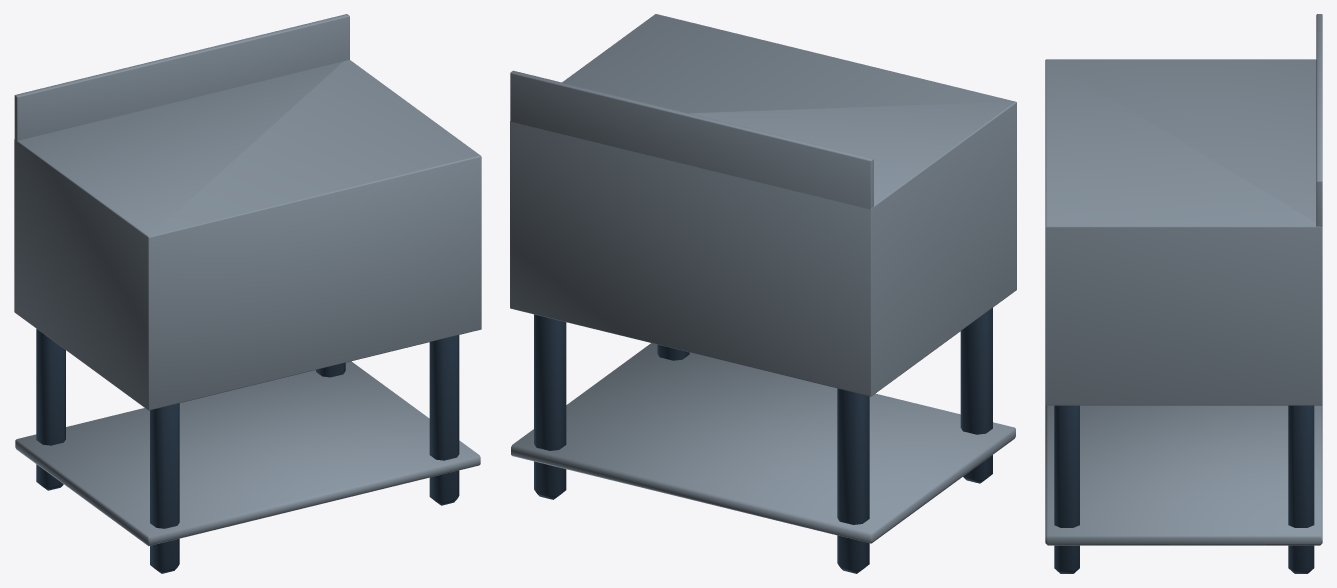
File: Counter-2.fbx
3 renders of one model, left to right at view 1: azimuth 30°, elevation 25°; view 2: azimuth 150°, elevation 25°; view 3: azimuth 270°, elevation 25°, orthographic. The views are drawn at different scales.
Visible parts, largest first — view 1: Counter-2; view 2: Counter-2; view 3: Counter-2.
Part boxes in pixels (left/top/right/bottom): Counter-2: left=14, top=14, right=481, bottom=573; Counter-2: left=510, top=14, right=1016, bottom=573; Counter-2: left=1045, top=14, right=1322, bottom=573.
Bounding box in the file's own units: 1 × 1.12 × 0.7.
